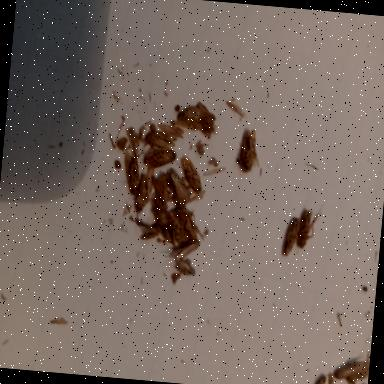pbw: (175, 100, 219, 140), (172, 200, 208, 244), (148, 192, 174, 244), (234, 128, 262, 176), (178, 156, 206, 195), (166, 164, 191, 204), (121, 150, 142, 197), (297, 210, 320, 252), (165, 210, 190, 248), (142, 148, 178, 172), (172, 237, 200, 266), (284, 216, 302, 258), (144, 131, 176, 154), (134, 174, 152, 214), (346, 360, 370, 384), (150, 174, 166, 202), (176, 260, 198, 278), (141, 225, 160, 244), (308, 374, 326, 384), (350, 380, 364, 384)
